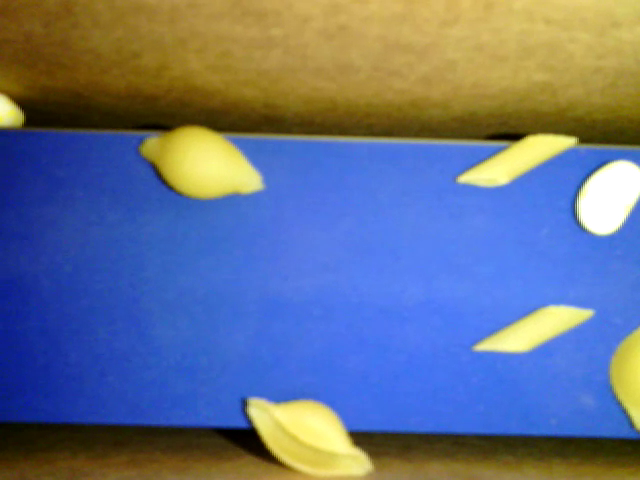penne: (456, 132, 578, 186), (471, 305, 594, 351)
shell: (245, 396, 374, 476), (136, 125, 264, 198), (610, 325, 639, 431)
